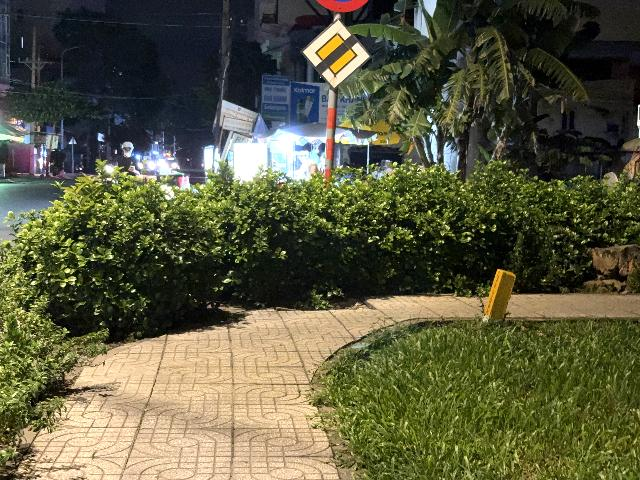het-duong-uu-tien: (301, 17, 373, 91)
